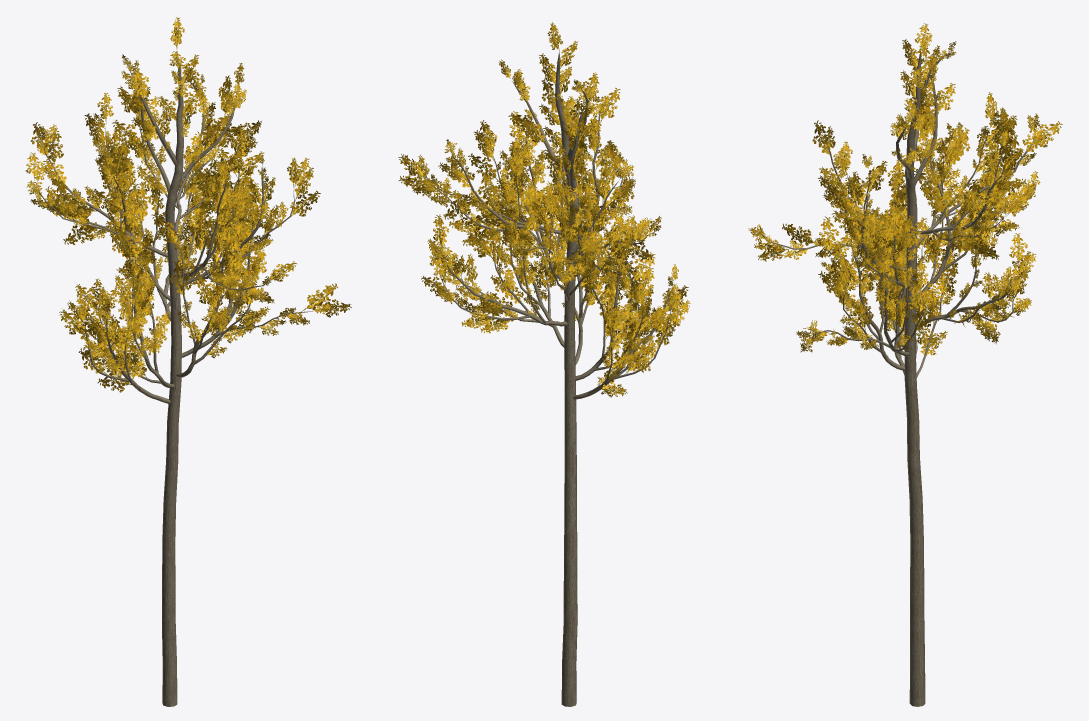
Rendered from aspen_medium_01.glb.
The picture shows the model from 3 angles, left to right: view 1: azimuth 30°, elevation 25°; view 2: azimuth 150°, elevation 25°; view 3: azimuth 270°, elevation 25°; orthographic projection.
Parts seen in each view (by area): view 1: Tree; view 2: Tree; view 3: Tree.
Boxes of the visible parts, x1,y1,x2,y2 form: Tree: (25, 17, 351, 706); Tree: (398, 22, 690, 706); Tree: (748, 23, 1062, 706).
Size of the model in its own units: 28.57 by 70.27 by 31.41.
2 materials, 2 textured.
